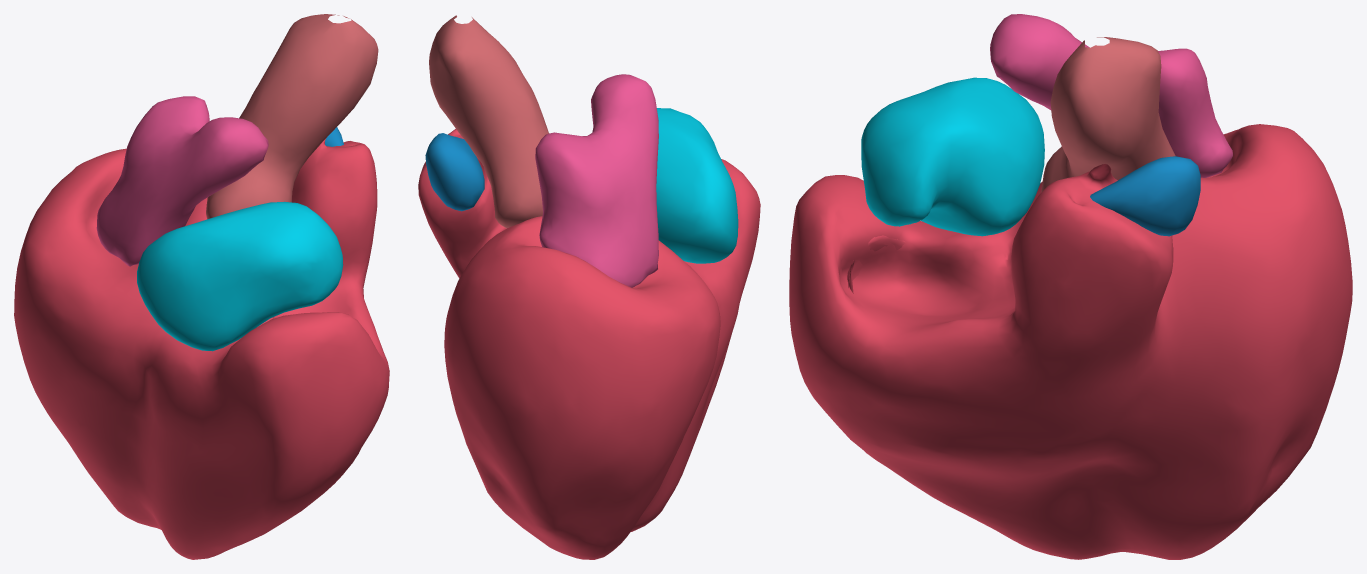
File: frame_0.glb
3 views of the same model, side by side, from view 1: azimuth 30°, elevation 25°; view 2: azimuth 150°, elevation 25°; view 3: azimuth 270°, elevation 25° (orthographic). The views are drawn at different scales.
Parts seen in each view (by area): view 1: Renderer Node; view 2: Renderer Node; view 3: Renderer Node.
Part boxes in pixels (box(x1,y1,x2,y2)): Renderer Node: box(14, 14, 389, 559); Renderer Node: box(418, 15, 760, 559); Renderer Node: box(789, 14, 1352, 559).
Size of the model in its own units: 105 by 162 by 135.
